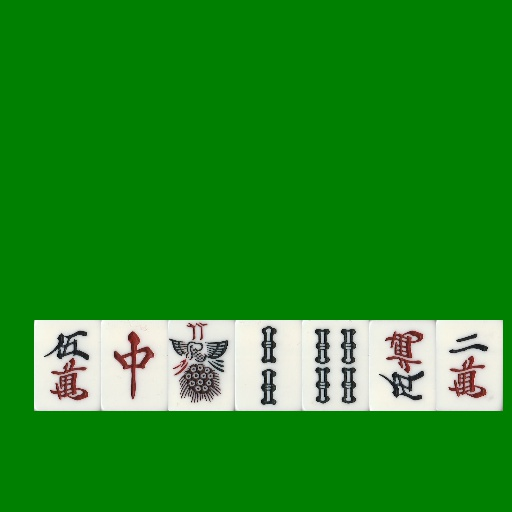1s: (168, 320, 235, 411)
2m: (436, 320, 503, 411)
2s: (235, 320, 302, 411)
4s: (302, 320, 369, 411)
5m: (34, 320, 101, 411), (369, 320, 436, 411)
tyun: (101, 320, 168, 411)
